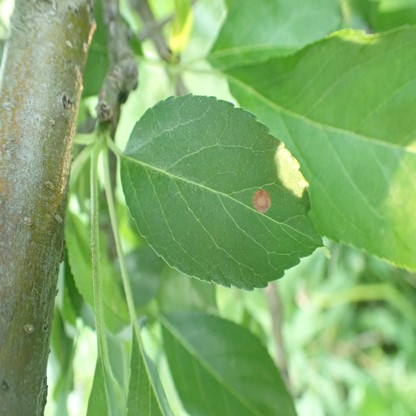frogeye_leaf_spot: (253, 187, 271, 214)
